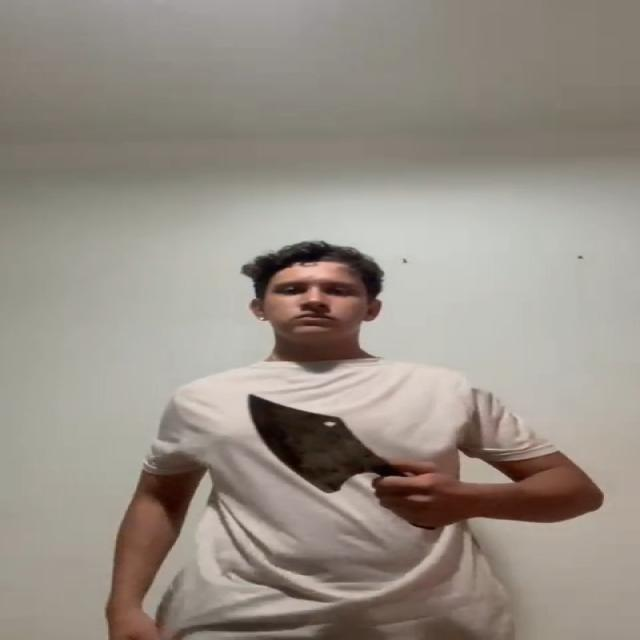knife: (247, 396, 386, 492)
